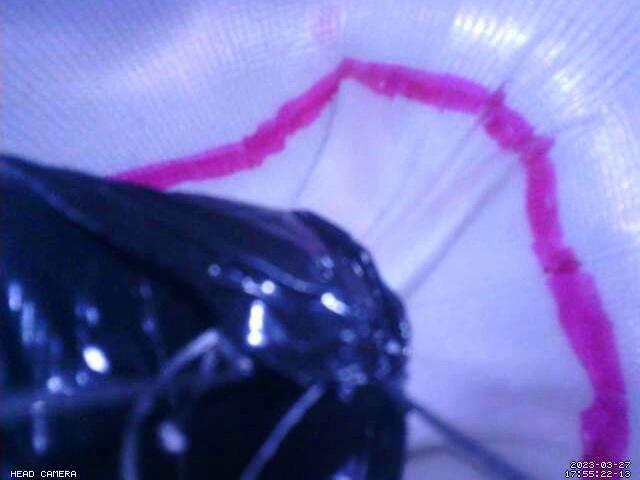red-circle: (105, 56, 632, 480)
